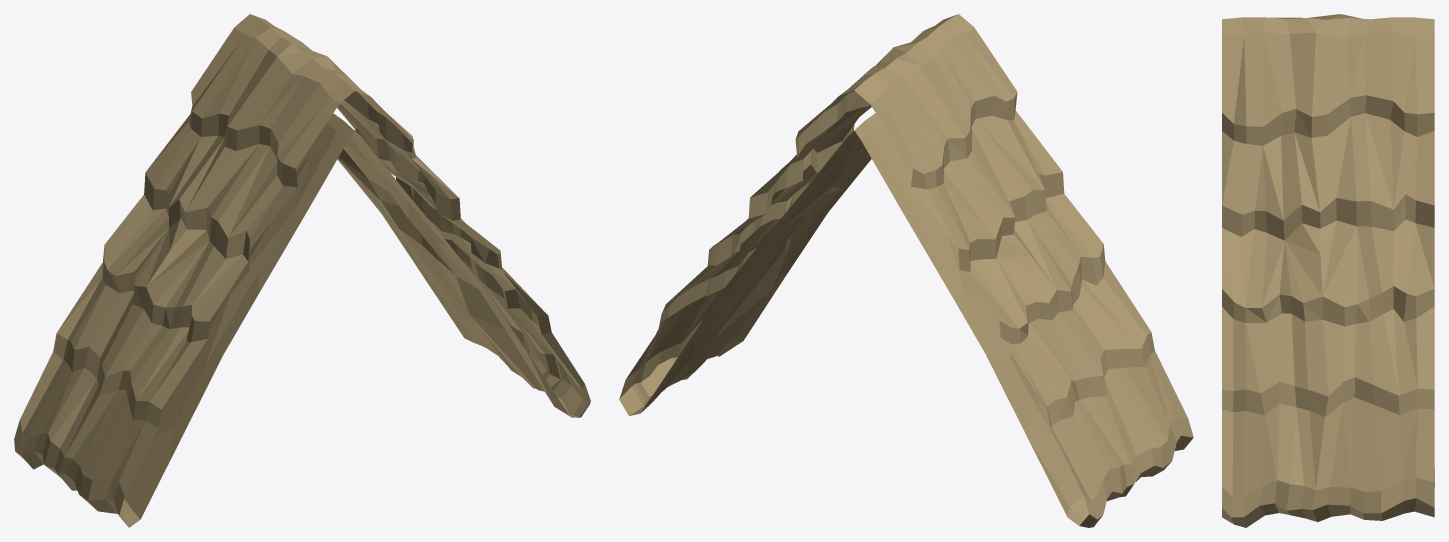
Rendered from rpgpp_ag_roof_02b_6x5x3.fbx.
The picture shows the model from 3 angles, left to right: view 1: azimuth 30°, elevation 25°; view 2: azimuth 150°, elevation 25°; view 3: azimuth 270°, elevation 25°; orthographic projection.
Parts seen in each view (by area): view 1: rpgpp_ag_roof_02b_6x5x3; view 2: rpgpp_ag_roof_02b_6x5x3; view 3: rpgpp_ag_roof_02b_6x5x3.
Boxes of the visible parts, x1,y1,x2,y2 form: rpgpp_ag_roof_02b_6x5x3: (14,14,590,527); rpgpp_ag_roof_02b_6x5x3: (619,14,1193,527); rpgpp_ag_roof_02b_6x5x3: (1222,14,1434,527).
Bounding box in the file's own units: 7.94 × 6.2 × 3.
